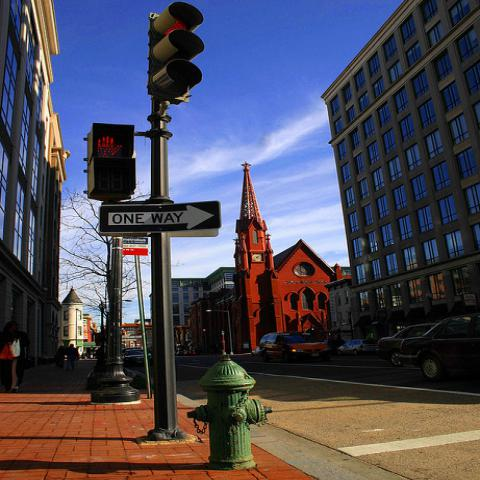car: (393, 313, 479, 380), (375, 322, 438, 365), (258, 332, 334, 364), (336, 339, 379, 355), (124, 349, 155, 368), (251, 346, 260, 356)
